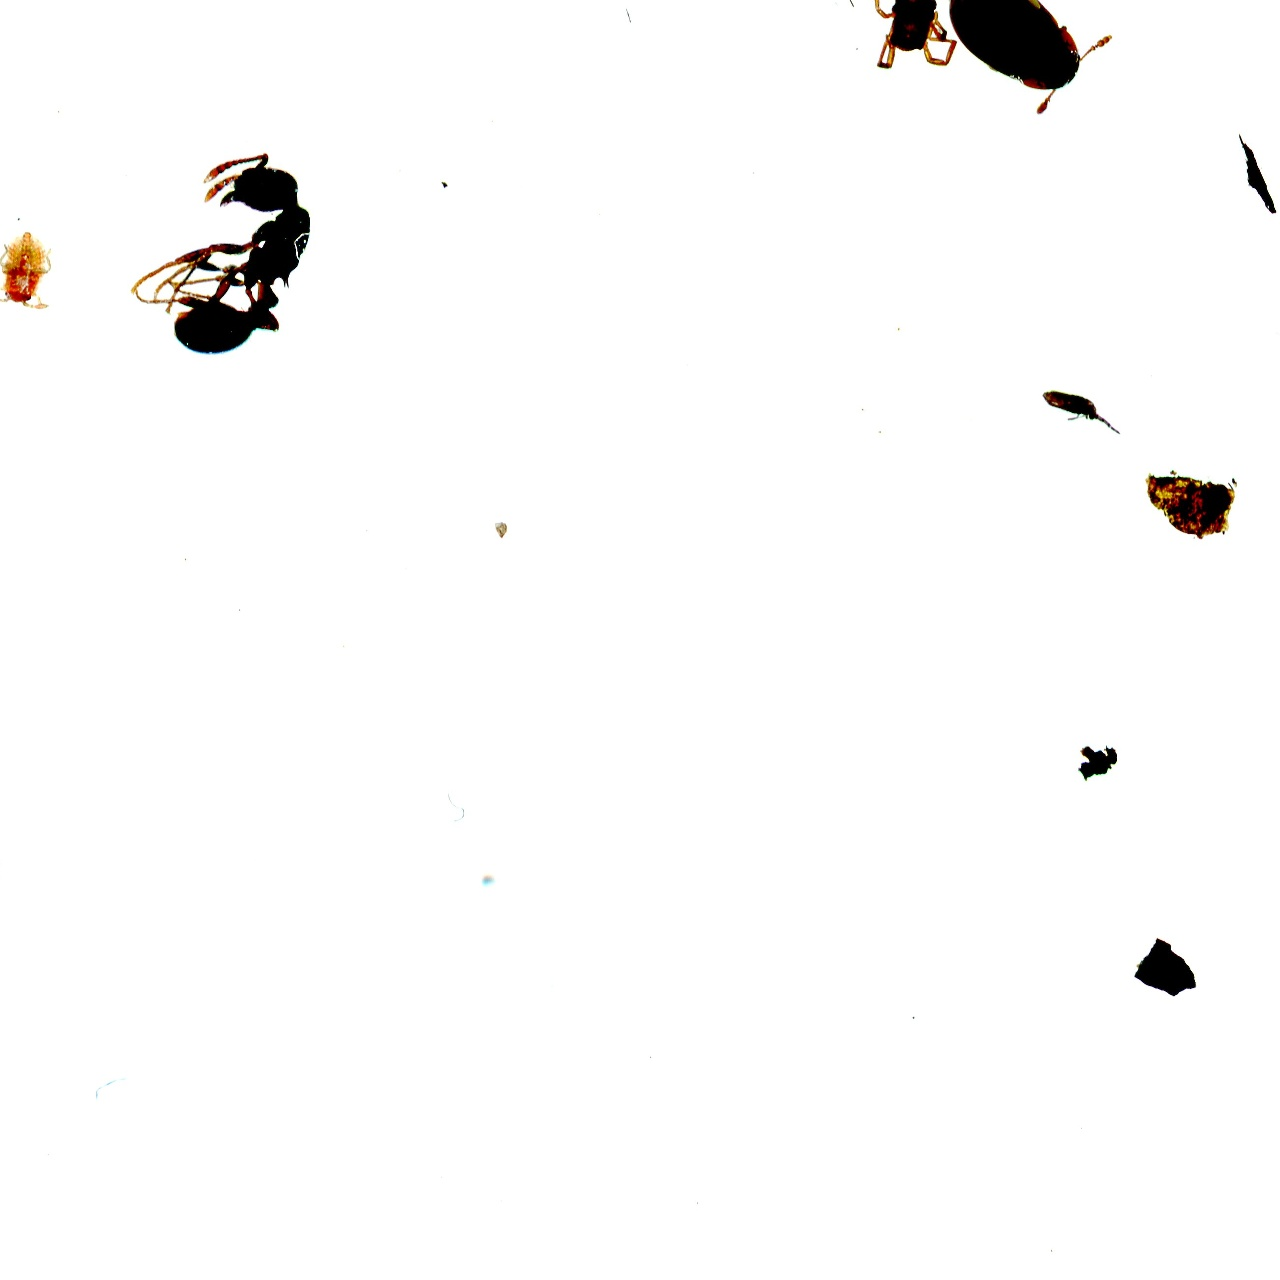arthropod: (122, 137, 319, 369), (908, 0, 1136, 135), (859, 0, 967, 82), (1030, 382, 1124, 441), (0, 231, 55, 312)
